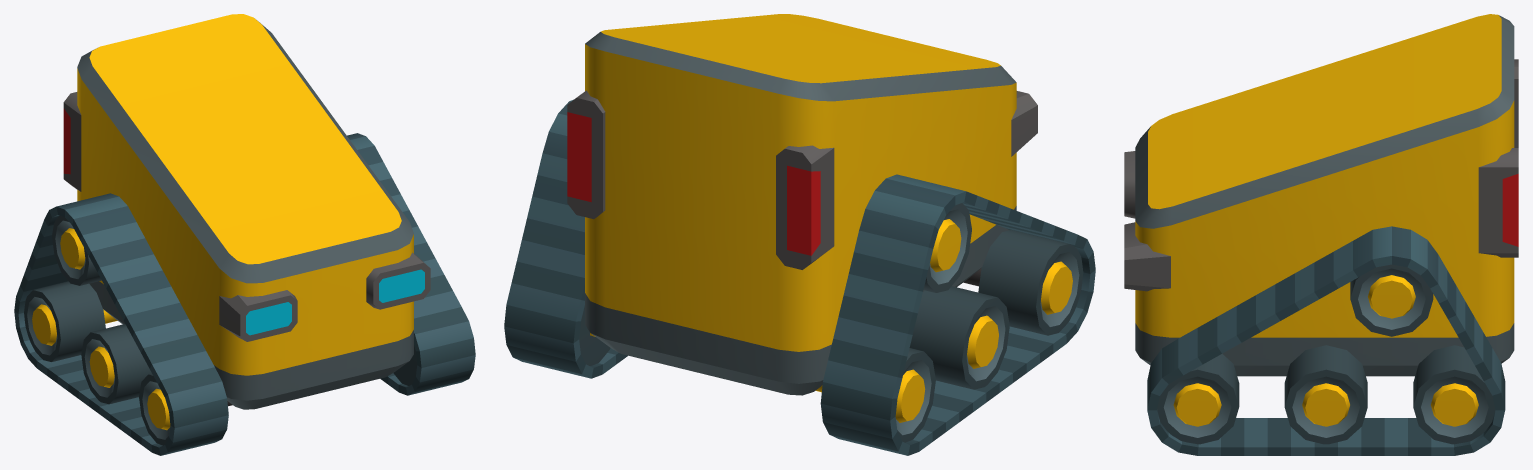
The model's file is Delivery_drone_004.fbx.
3 renders of one model, left to right at view 1: azimuth 30°, elevation 25°; view 2: azimuth 150°, elevation 25°; view 3: azimuth 270°, elevation 25°, orthographic. The views are drawn at different scales.
Visible parts, largest first — view 1: Delivery_drone_004; view 2: Delivery_drone_004; view 3: Delivery_drone_004.
Part boxes in pixels (x1=…): Delivery_drone_004: x1=14, y1=14, x2=475, y2=455; Delivery_drone_004: x1=504, y1=14, x2=1095, y2=455; Delivery_drone_004: x1=1124, y1=14, x2=1518, y2=455.
Size of the model in its own units: 86.98 by 88.43 by 78.93.
